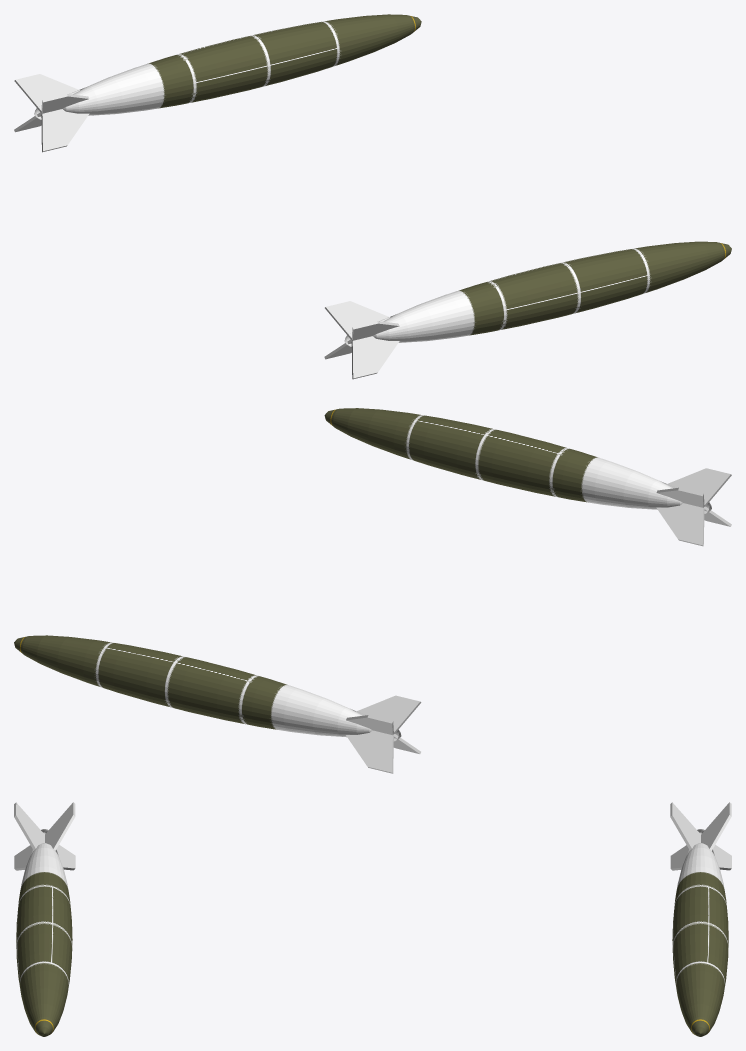
The model's file is gbu31fa18e24.glb.
3 renders of one model, top to bottom at view 1: azimuth 30°, elevation 25°; view 2: azimuth 150°, elevation 25°; view 3: azimuth 270°, elevation 25°, orthographic. The views are drawn at different scales.
Visible parts, largest first — view 1: 球.002, 球.001; view 2: 球.002, 球.001; view 3: 球.002, 球.001.
Part boxes in pixels (x1,y1,x2,y2): 球.002: (14, 14, 421, 152); 球.001: (324, 241, 731, 379); 球.002: (14, 635, 421, 773); 球.001: (324, 408, 731, 546); 球.002: (670, 802, 731, 1036); 球.001: (14, 802, 75, 1036).
Bounding box in the file's own units: 3.97 × 0.5109 × 5.94.
Materials: 1 (1 with a texture image).
